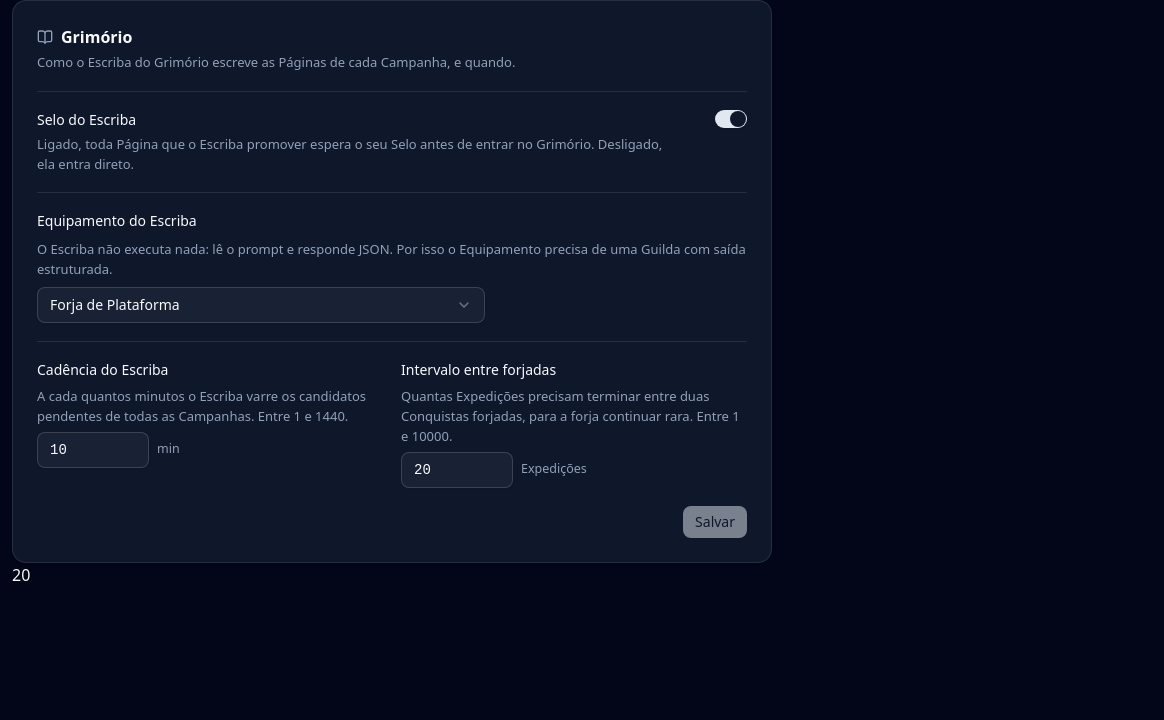
Test: bloco do Grimório em Settings › grava só as chaves que mudaram, uma por PUT
The width and height of the screenshot is (1164, 720).
Click the switch.
click(731, 119)  # box x1=715 y1=110 x2=747 y2=128
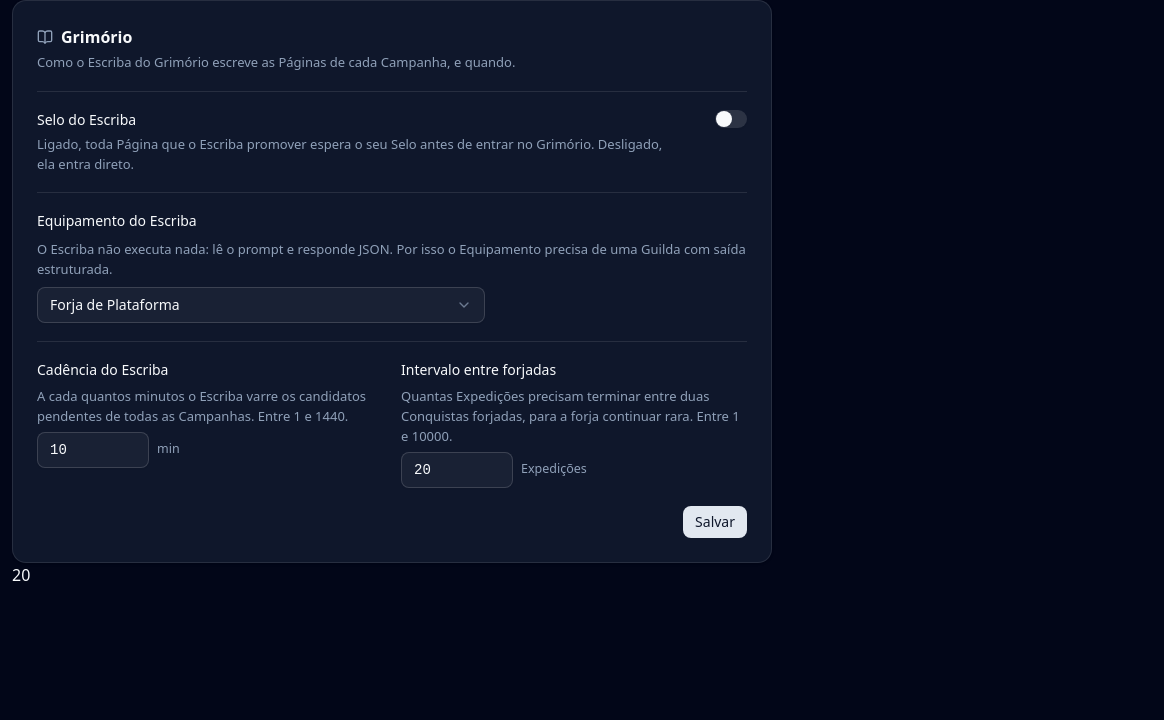
Replace the text in the number field labelled "Cadência do Escriba" with "30" at (93, 450), box x1=37 y1=432 x2=149 y2=468
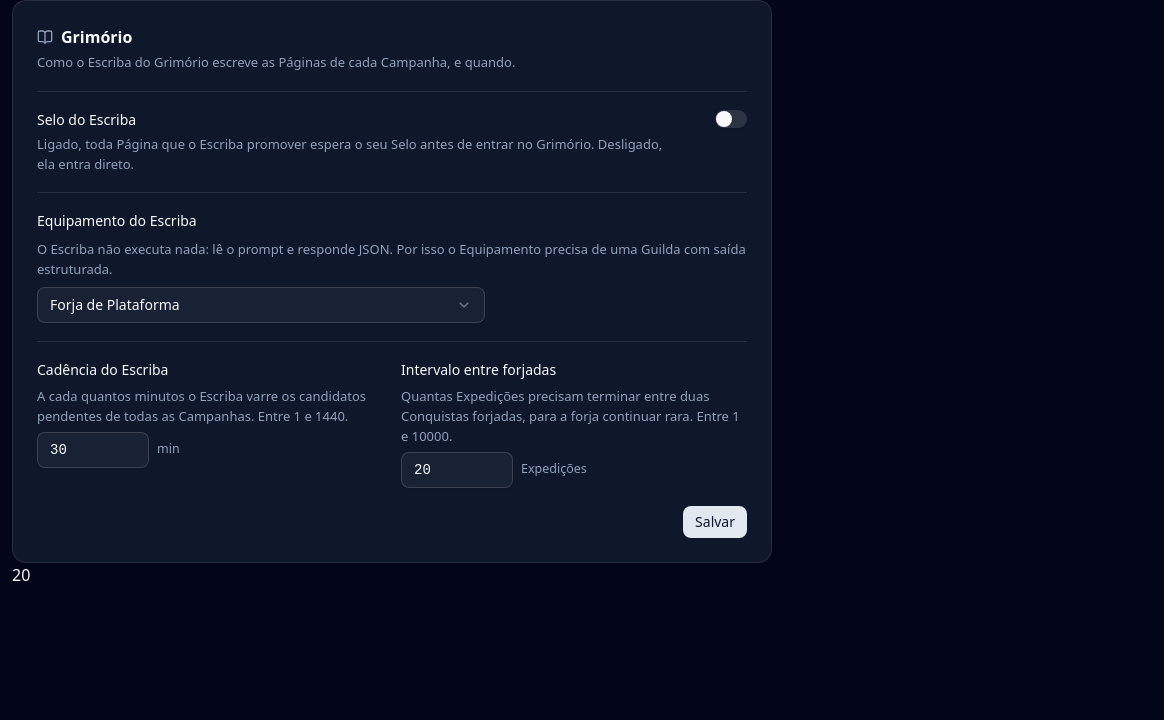
Click the button "Salvar".
click(715, 522)  # box x1=683 y1=506 x2=747 y2=538
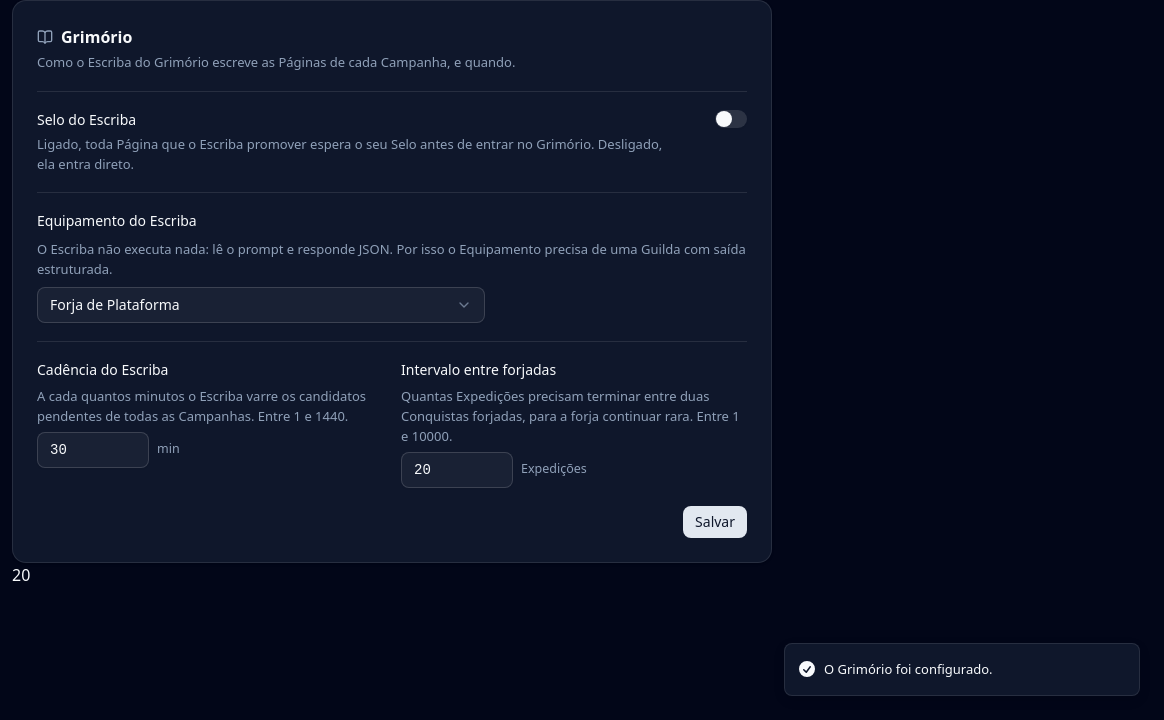
Expected: the text "O Grimório foi configurado." is shown, x1=824 y1=660 x2=992 y2=679
